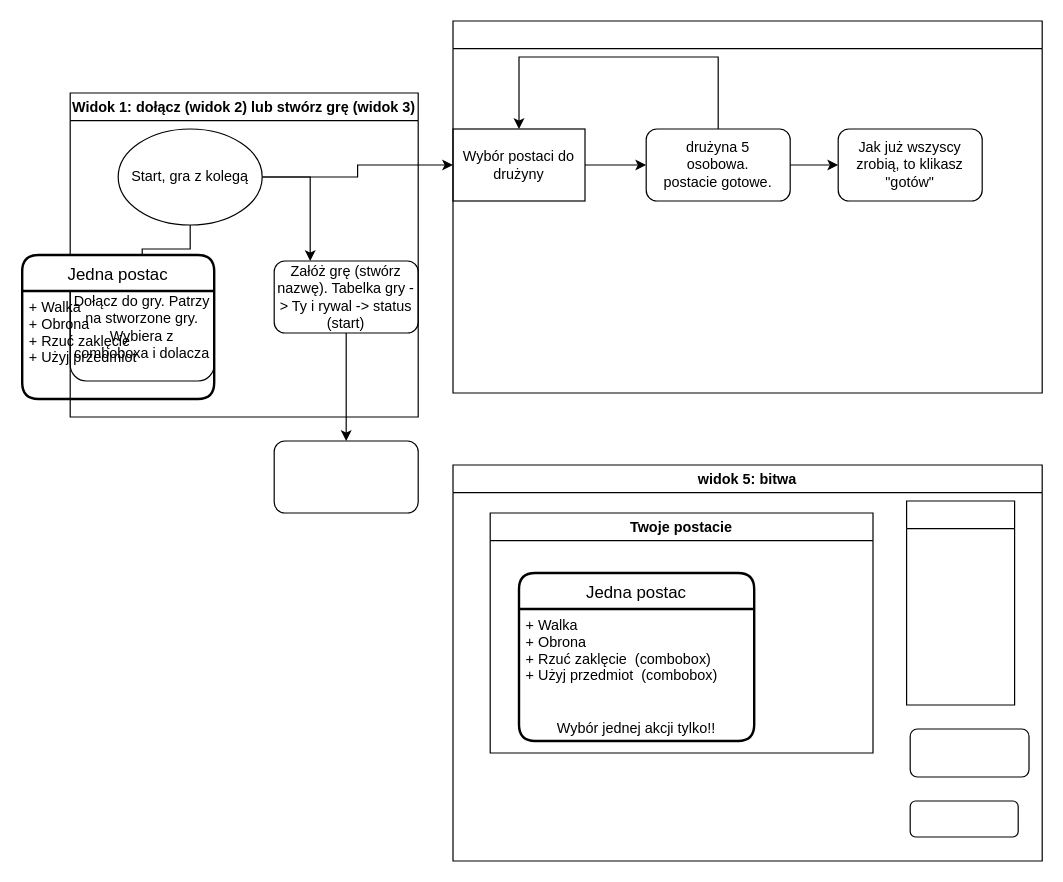
The diagram is 1063 pixels wide and 882 high, and some of its shapes have lost their labels. Here are the shapes that lost their labels. From the top down, the centre of each, then its label:
At (x=747, y=206): "widok 4: tworzenie drużyny".
At (x=345, y=476): "Nasłuchiwanie tabelki i sprawdzanie czy się coś zmieniło (czy ktoś dołączył)".
At (x=960, y=602): "Jego postacie".
At (x=969, y=752): "Zakończ turę".
At (x=963, y=818): "Poddaj się".
